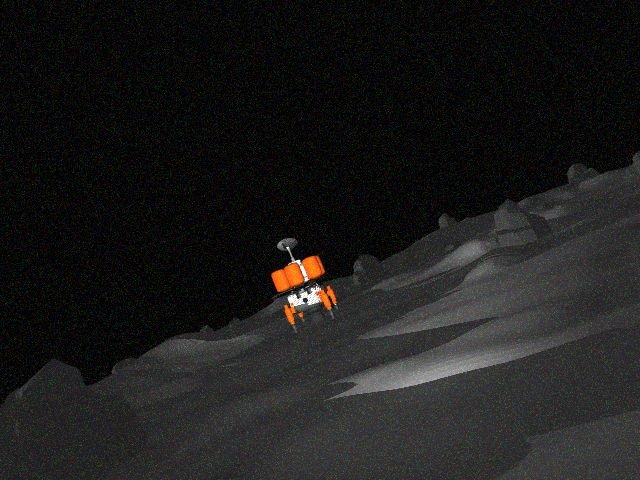homebase: (268, 234, 344, 338)
